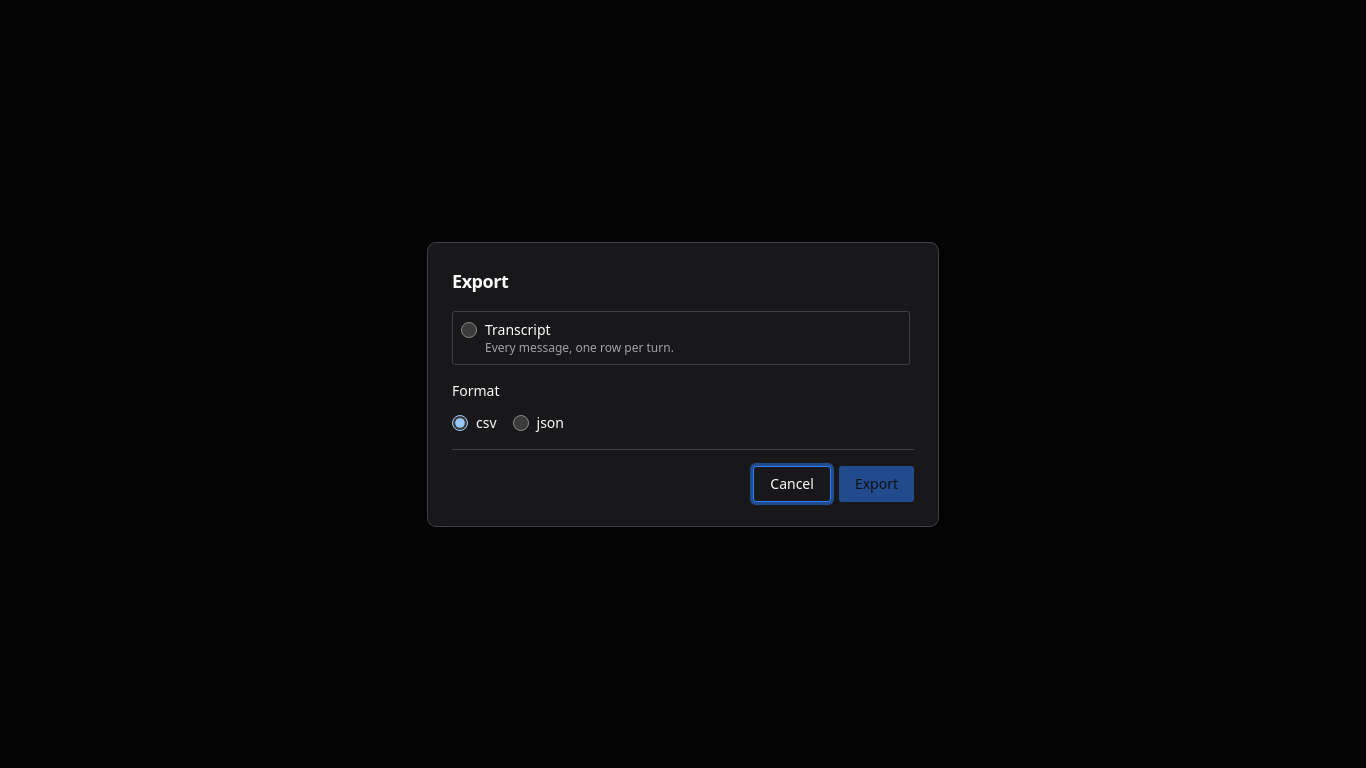
ExportDialog › blocks an inverted date range instead of queueing an empty export
Click the radio button labelled "Transcript Every message, one row per turn.".
click(469, 330)  # box [461,322,477,338]
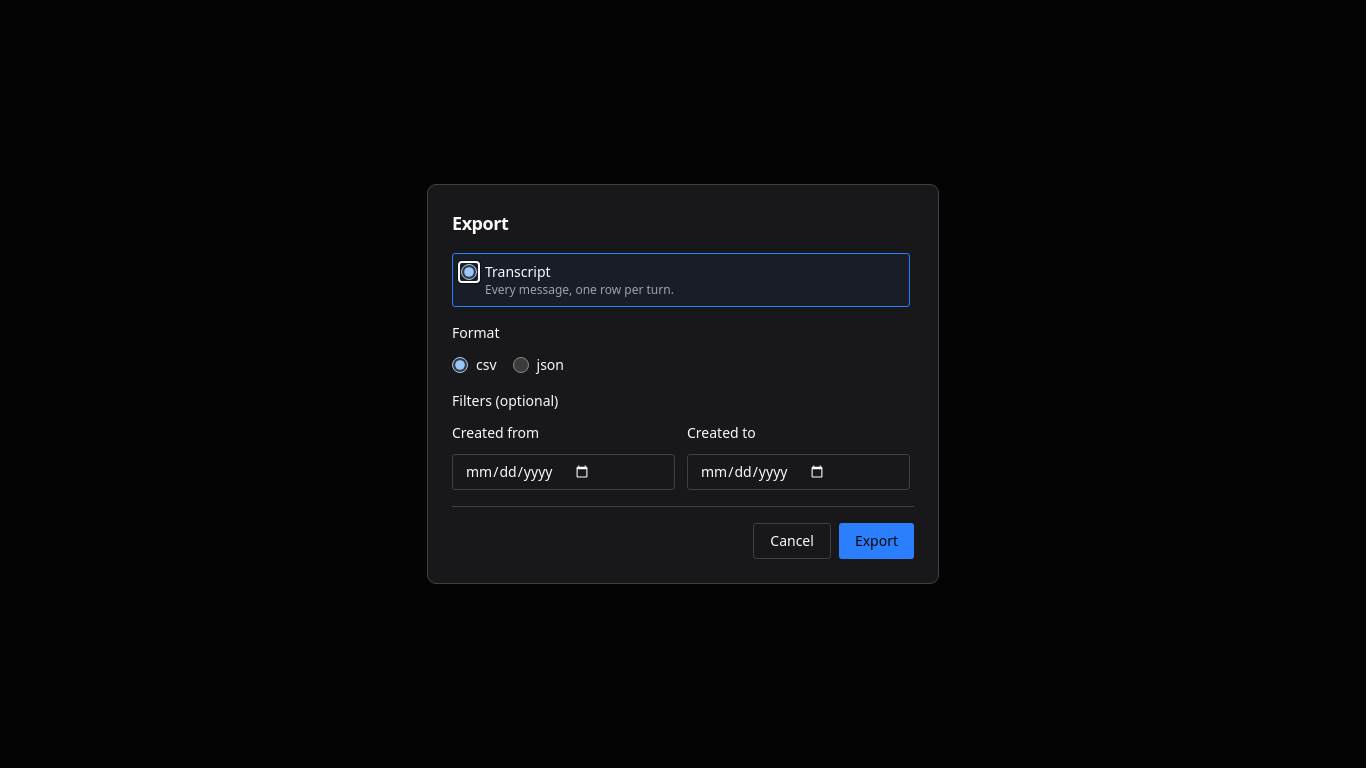
Type "2026-03-10" into the date field labelled "Created from".
click(564, 472); type("2026-03-10")  # box [452,454,675,490]
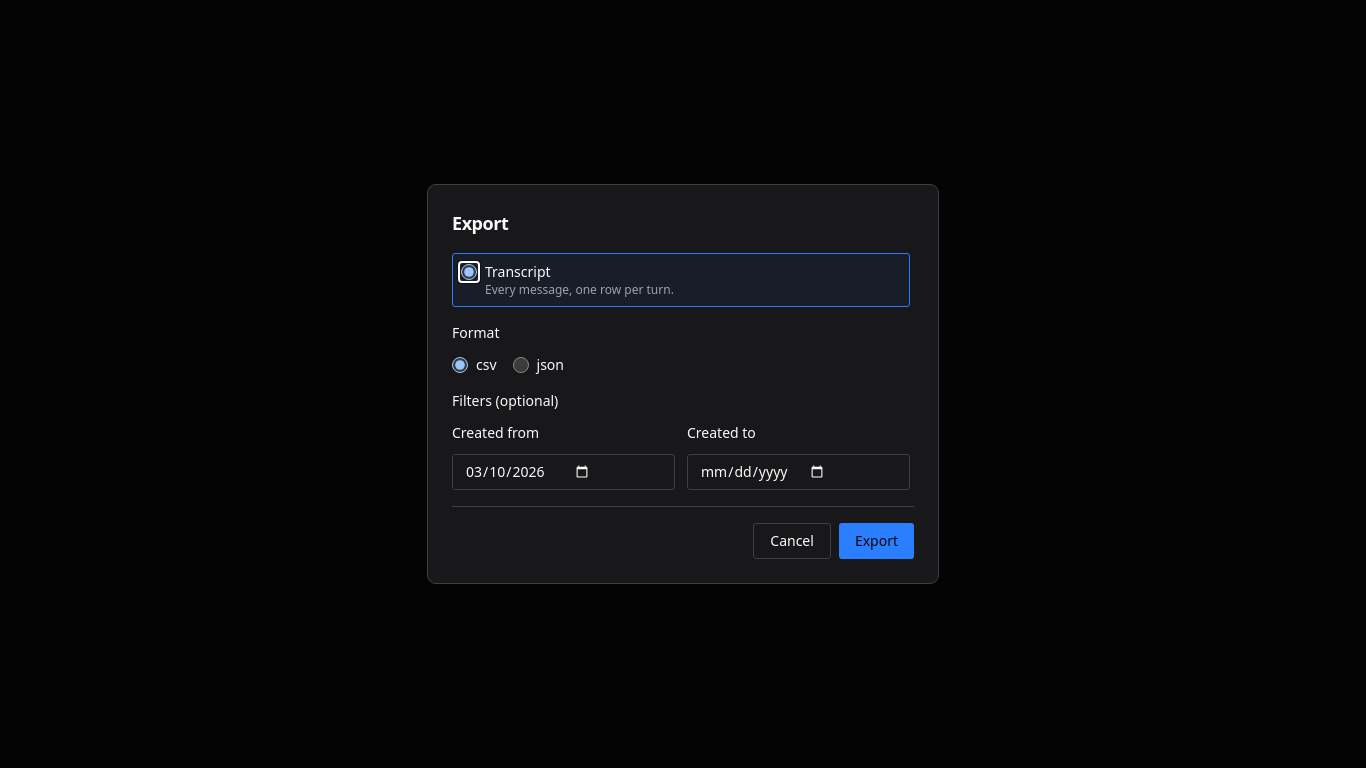
Type "2026-03-01" into the date field labelled "Created to".
click(798, 472); type("2026-03-01")  # box [687,454,910,490]
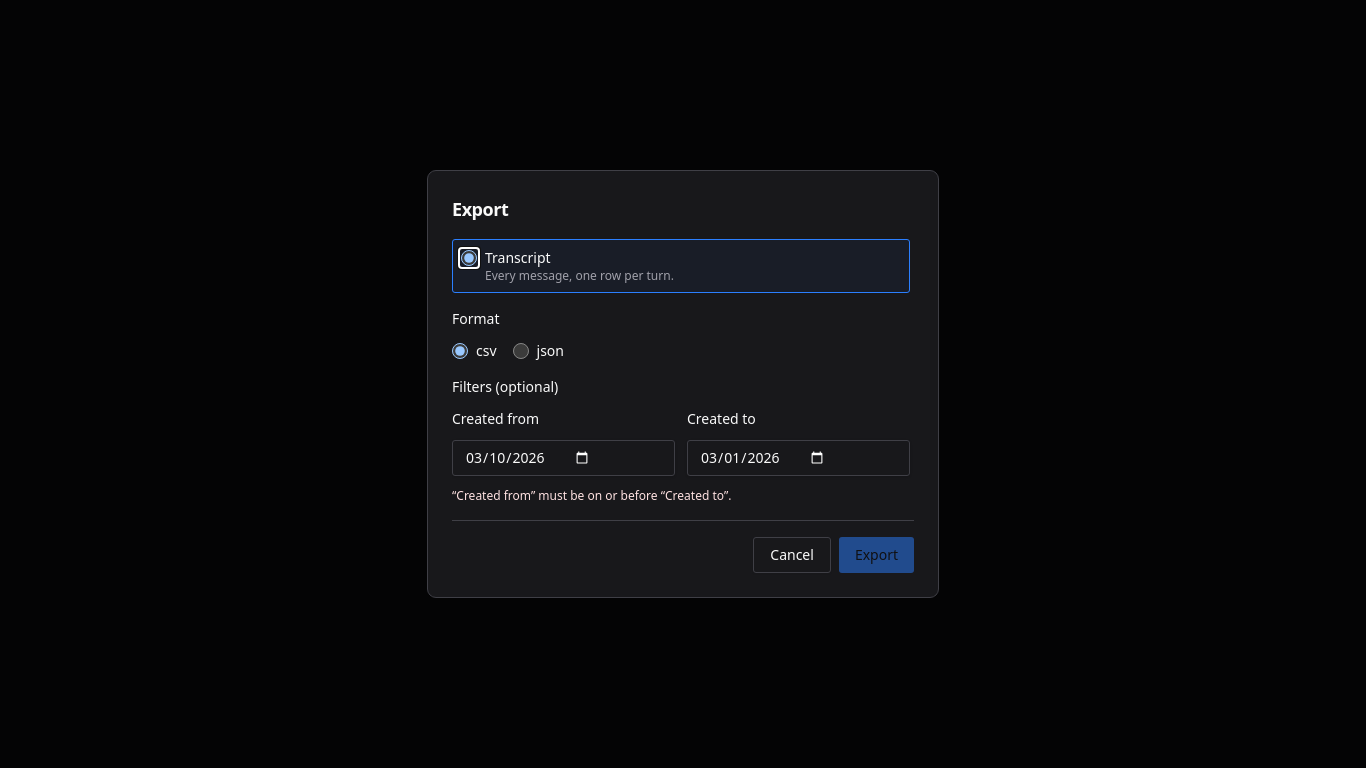
Check: the text "“Created from” must be on or before “Created to”." is shown, box [452,487,731,504]
Check: the button "Export" is disabled, box [839,537,914,573]
